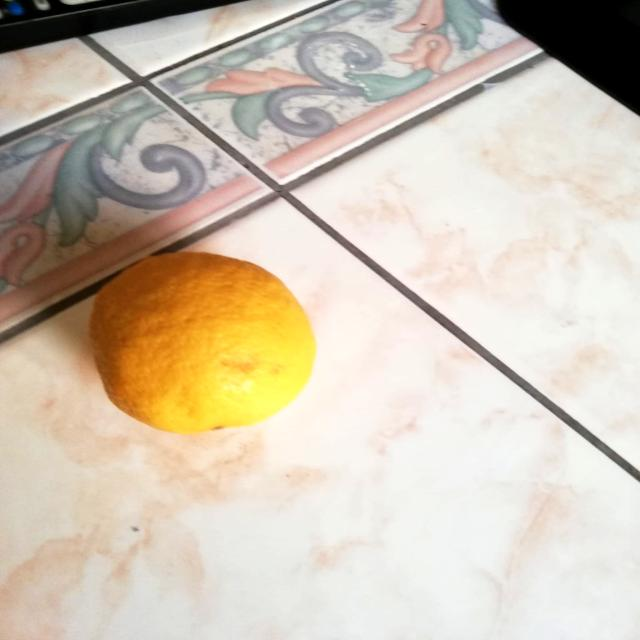lemon: (75, 242, 332, 440)
